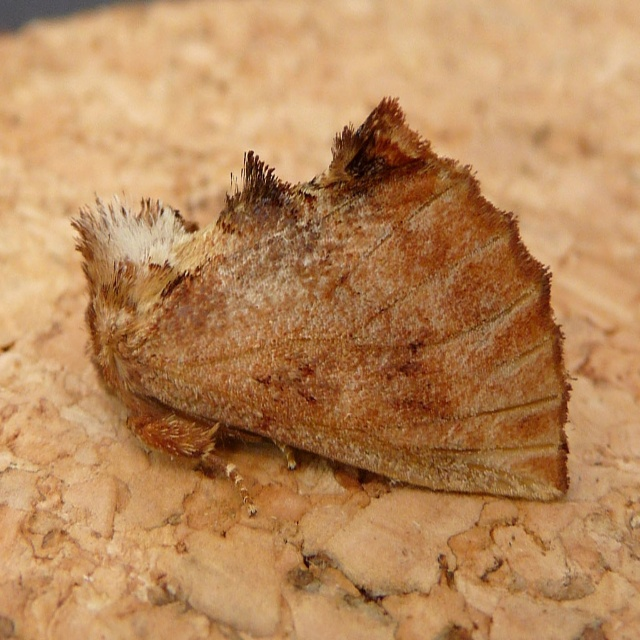Moths and butterflies: (70, 95, 573, 520)
